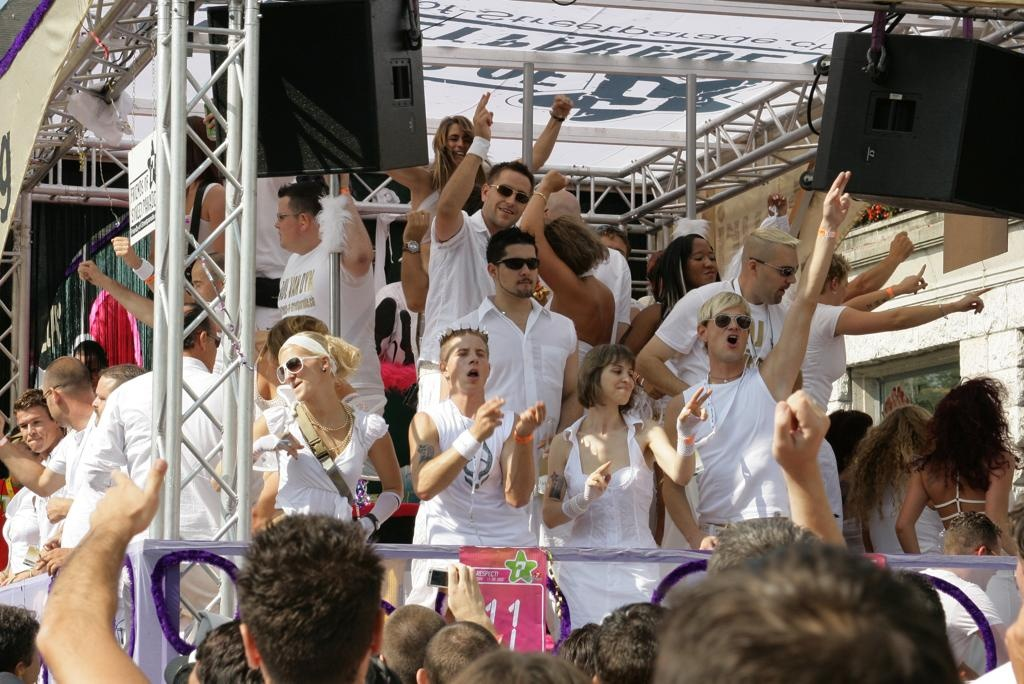human_face: (704, 307, 750, 359), (485, 176, 531, 226), (446, 338, 490, 386), (756, 252, 796, 304), (280, 350, 320, 398), (597, 355, 635, 405), (496, 247, 536, 294), (17, 408, 55, 452), (683, 241, 717, 289), (188, 322, 218, 372), (272, 200, 304, 246), (190, 266, 222, 312), (6, 644, 42, 684), (446, 125, 474, 167), (92, 382, 118, 427), (594, 242, 626, 278), (42, 382, 68, 422), (826, 271, 848, 307)
